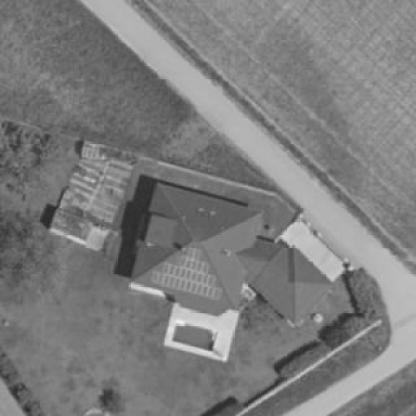solar-pv-panel: (150, 248, 220, 300)
